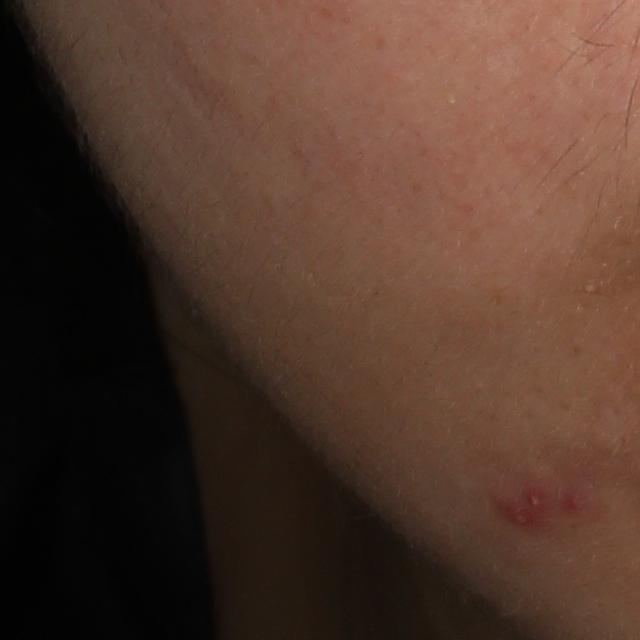papule: (499, 502, 540, 531)
